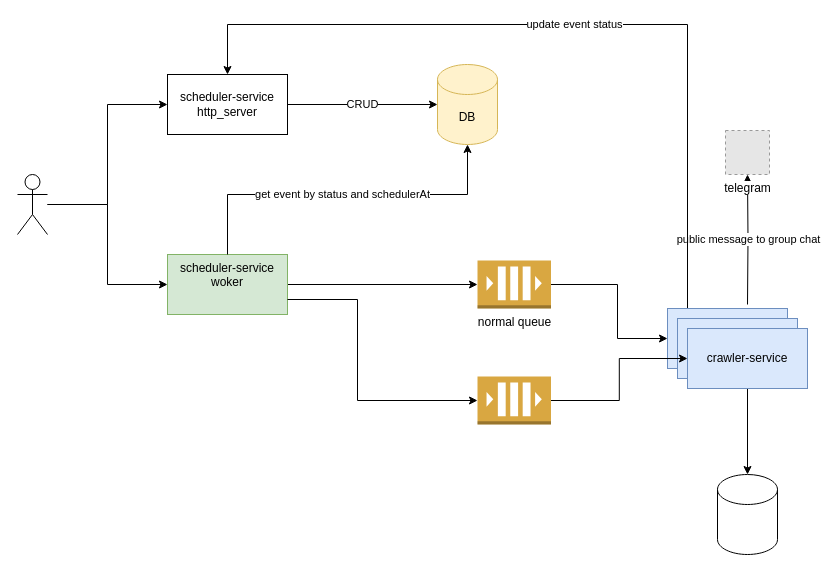
The diagram is 838 pixels wide and 572 high, and some of its shapes have lost their labels. Grey dashed boxes stand in for pictures. The box of each missing label's shape, as (x1, y1, x2, y2) in pixels:
Actor: (16, 174, 48, 234)
priority queue: (476, 376, 551, 424)
result DB: (716, 474, 778, 554)
